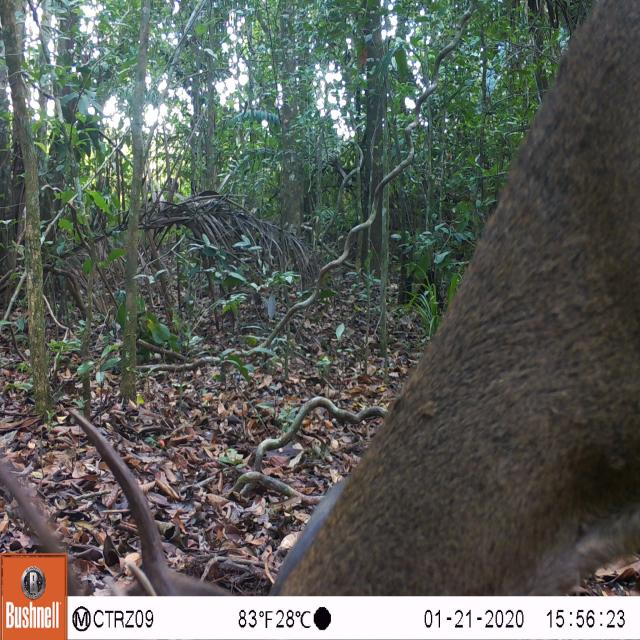White-tailed Deer: (0, 0, 640, 593)
